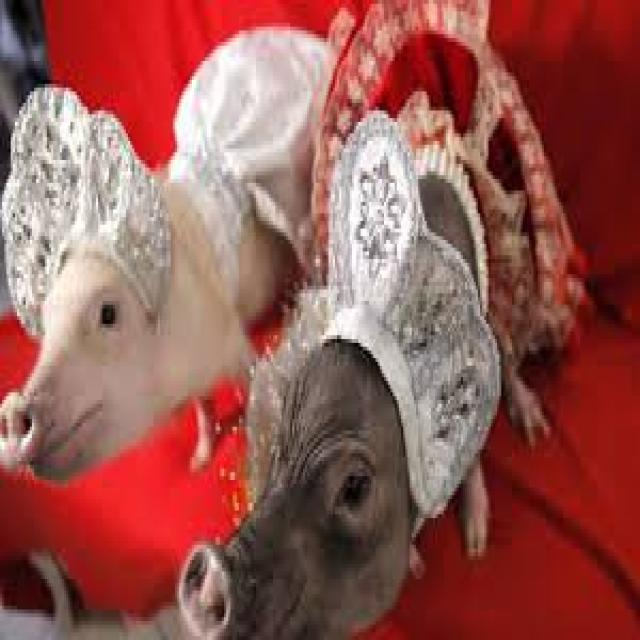pig: (175, 316, 388, 640), (19, 136, 166, 524)
